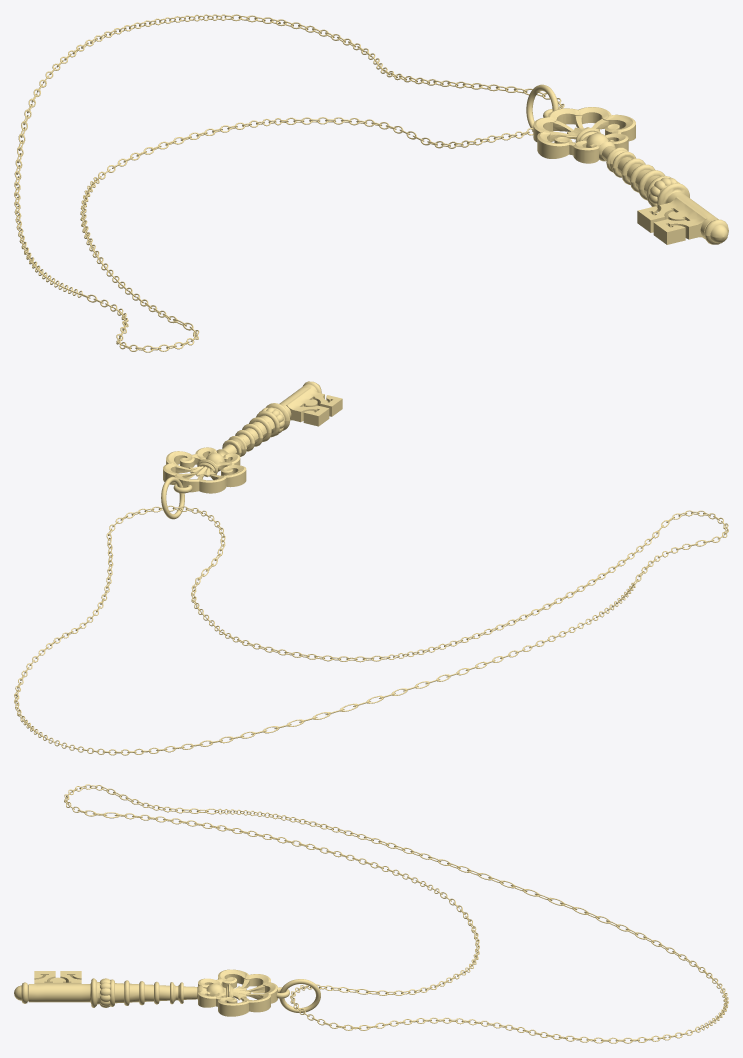
Rendered from kagi.fbx.
The picture shows the model from 3 angles, top to bottom: view 1: azimuth 30°, elevation 25°; view 2: azimuth 150°, elevation 25°; view 3: azimuth 270°, elevation 25°; orthographic projection. The views are drawn at different scales.
Visible parts, largest first — view 1: Torus19; view 2: Torus19; view 3: Torus19.
Boxes of the visible parts, left/top/right/bottom form: Torus19: left=14, top=14, right=728, bottom=352; Torus19: left=14, top=381, right=728, bottom=755; Torus19: left=14, top=784, right=728, bottom=1043.
Bounding box in the file's own units: 37.23 × 6.11 × 48.22.
